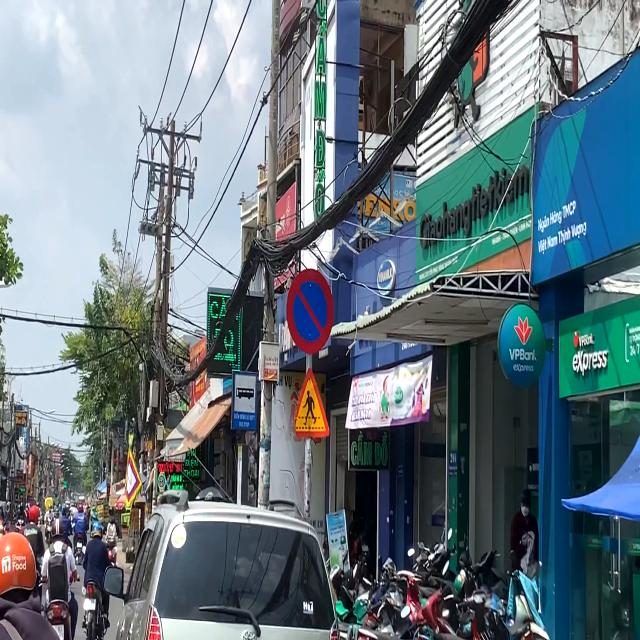P.131a: (286, 266, 335, 354)
W.224: (291, 364, 332, 443)
